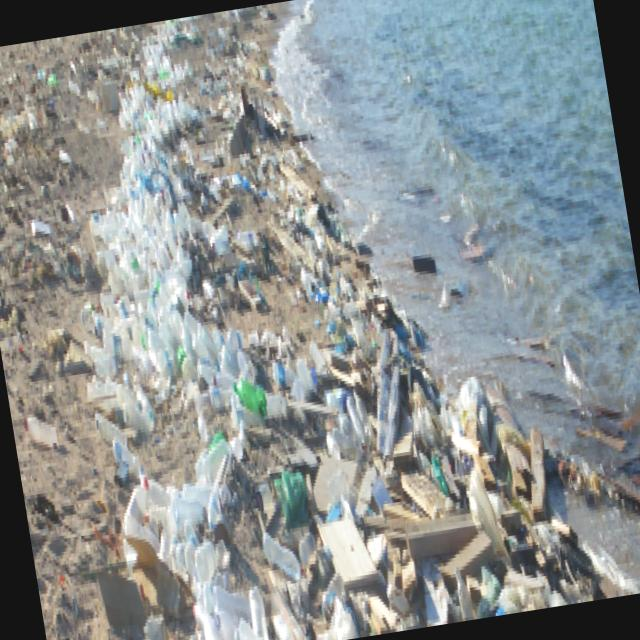garbage: (36, 6, 373, 640), (320, 261, 568, 635)
